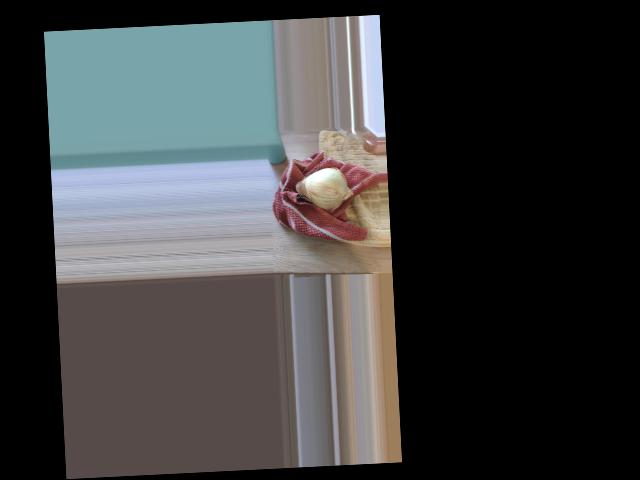onion: (298, 163, 349, 213)
